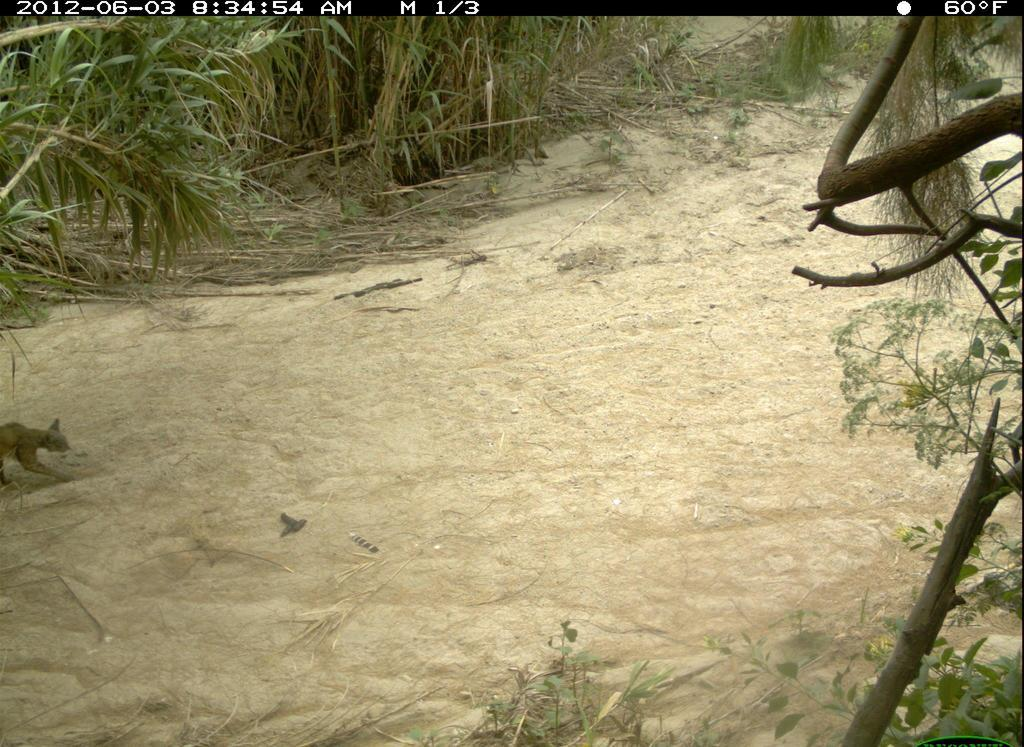bobcat: (2, 406, 94, 500)
